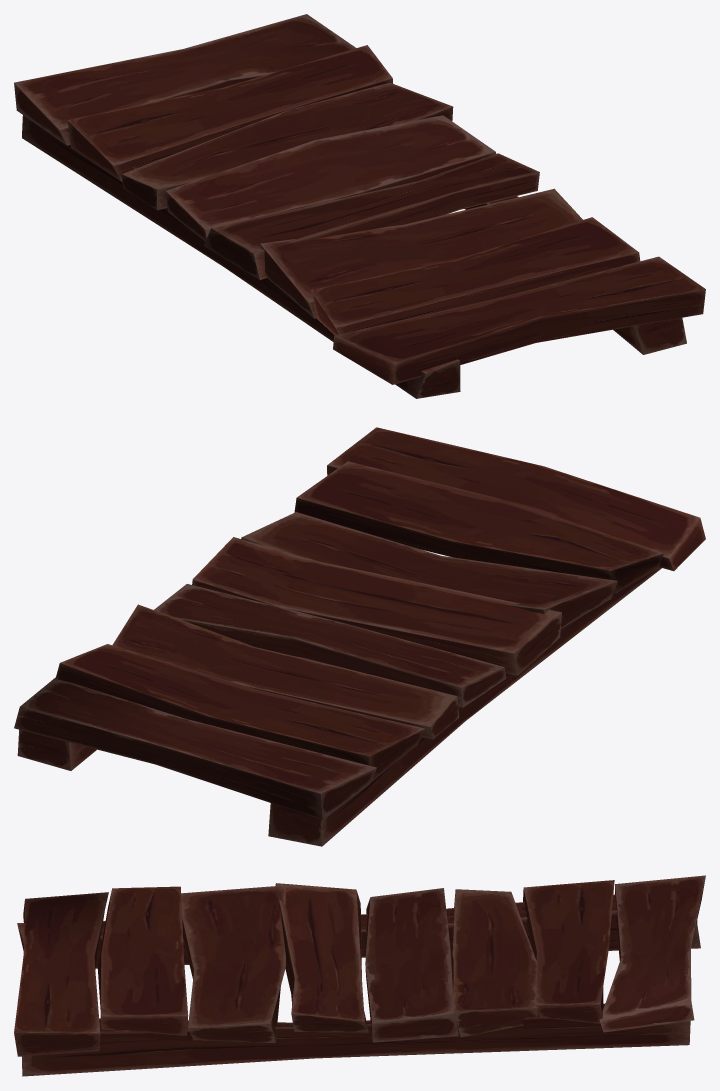
The model's file is SM_PROP_walkway_wood.glb.
3 renders of one model, top to bottom at view 1: azimuth 30°, elevation 25°; view 2: azimuth 150°, elevation 25°; view 3: azimuth 270°, elevation 25°, orthographic. The views are drawn at different scales.
Parts seen in each view (by area): view 1: SM_PROP_walkway_wood_EXPORT; view 2: SM_PROP_walkway_wood_EXPORT; view 3: SM_PROP_walkway_wood_EXPORT.
Part boxes in pixels (x1=…): SM_PROP_walkway_wood_EXPORT: x1=14, y1=14, x2=705, y2=398; SM_PROP_walkway_wood_EXPORT: x1=14, y1=427, x2=705, y2=846; SM_PROP_walkway_wood_EXPORT: x1=14, y1=875, x2=705, y2=1076.
Bounding box in the file's own units: 2.91 × 0.6486 × 5.79.
Materials: 1 (1 with a texture image).
